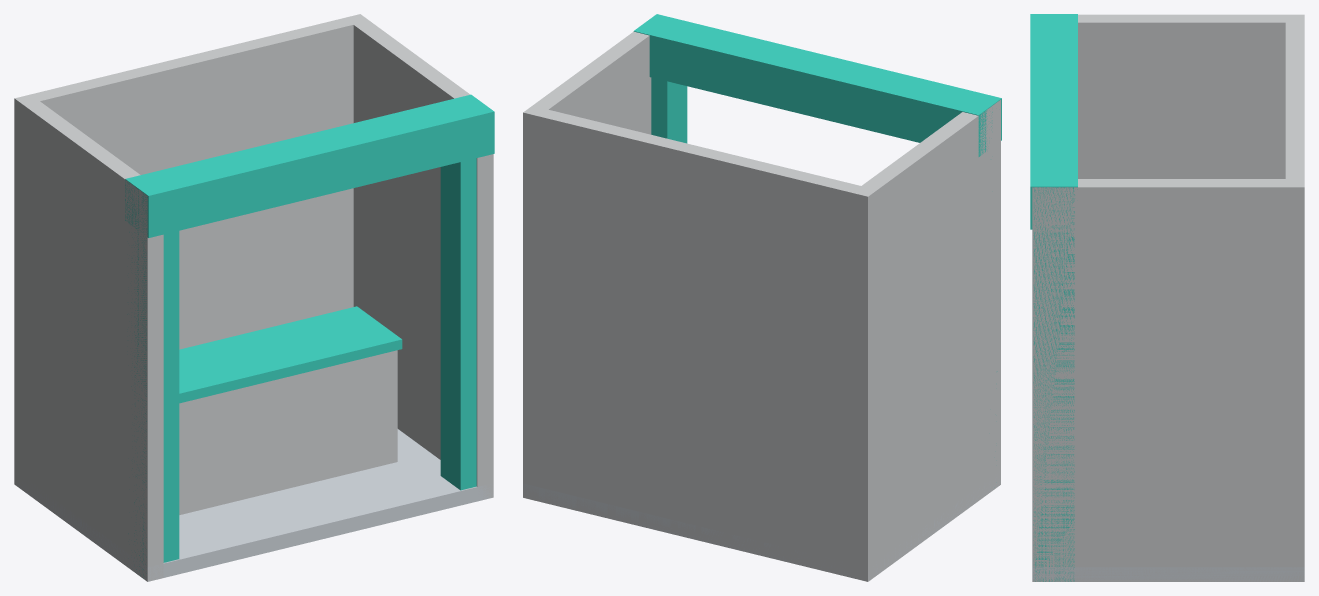
The picture shows the model from 3 angles, left to right: view 1: azimuth 30°, elevation 25°; view 2: azimuth 150°, elevation 25°; view 3: azimuth 270°, elevation 25°; orthographic projection. The views are drawn at different scales.
Visible parts, largest first — view 1: Exhibition Booth Concept; view 2: Exhibition Booth Concept; view 3: Exhibition Booth Concept.
Boxes of the visible parts, bbox=[...] form: Exhibition Booth Concept: bbox=[14, 14, 494, 581]; Exhibition Booth Concept: bbox=[523, 14, 1001, 581]; Exhibition Booth Concept: bbox=[1030, 14, 1304, 581].
Size of the model in its own units: 3 by 3.2 by 2.01.
